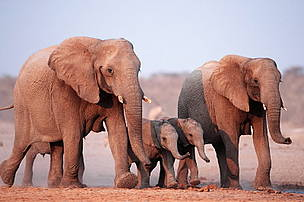elephant: (1, 33, 155, 191), (169, 55, 294, 194), (118, 114, 189, 187), (146, 113, 209, 187)
